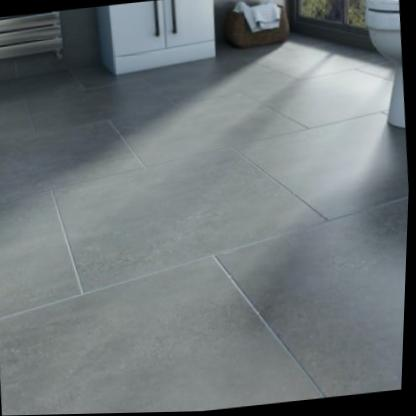Ceramic floor: (0, 34, 410, 416)
